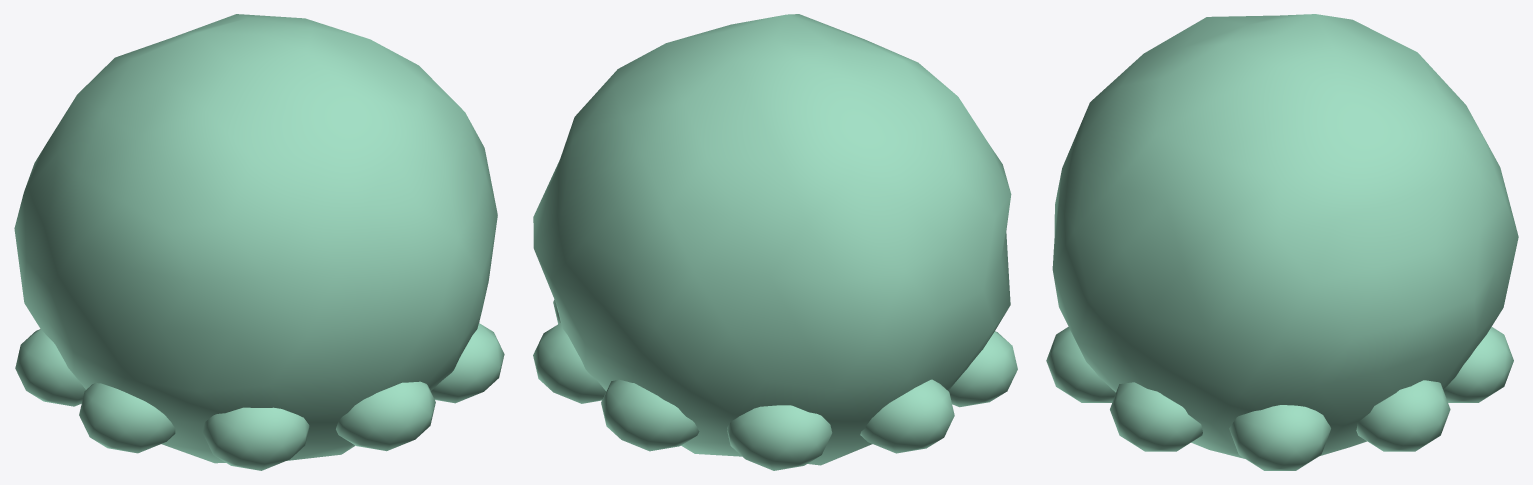
The model's file is Mint_scoop.fbx.
3 renders of one model, left to right at view 1: azimuth 30°, elevation 25°; view 2: azimuth 150°, elevation 25°; view 3: azimuth 270°, elevation 25°, orthographic.
Parts seen in each view (by area): view 1: Toon_Mint_scoop Mint scoop.001, Toon_Mint_scoop Ruffled scoop edge.015, Toon_Mint_scoop Ruffled scoop edge.016, Toon_Mint_scoop Ruffled scoop edge.014, Toon_Mint_scoop Ruffled scoop edge.013, Toon_Mint_scoop Ruffled scoop edge.017; view 2: Toon_Mint_scoop Mint scoop.001, Toon_Mint_scoop Ruffled scoop edge.012, Toon_Mint_scoop Ruffled scoop edge.011, Toon_Mint_scoop Ruffled scoop edge.013, Toon_Mint_scoop Ruffled scoop edge.010, Toon_Mint_scoop Ruffled scoop edge.014; view 3: Toon_Mint_scoop Mint scoop.001, Toon_Mint_scoop Ruffled scoop edge.009, Toon_Mint_scoop Ruffled scoop edge.010, Toon_Mint_scoop Ruffled scoop edge.017, Toon_Mint_scoop Ruffled scoop edge.011, Toon_Mint_scoop Ruffled scoop edge.016.
Part boxes in pixels (x1=…): Toon_Mint_scoop Mint scoop.001: x1=14, y1=14, x2=497, y2=463; Toon_Mint_scoop Ruffled scoop edge.015: x1=202, y1=407, x2=309, y2=470; Toon_Mint_scoop Ruffled scoop edge.016: x1=336, y1=381, x2=435, y2=451; Toon_Mint_scoop Ruffled scoop edge.014: x1=79, y1=382, x2=175, y2=453; Toon_Mint_scoop Ruffled scoop edge.013: x1=15, y1=329, x2=85, y2=406; Toon_Mint_scoop Ruffled scoop edge.017: x1=431, y1=323, x2=504, y2=403; Toon_Mint_scoop Mint scoop.001: x1=533, y1=14, x2=1011, y2=465; Toon_Mint_scoop Ruffled scoop edge.012: x1=727, y1=405, x2=832, y2=470; Toon_Mint_scoop Ruffled scoop edge.011: x1=601, y1=379, x2=699, y2=451; Toon_Mint_scoop Ruffled scoop edge.013: x1=860, y1=379, x2=954, y2=453; Toon_Mint_scoop Ruffled scoop edge.010: x1=533, y1=323, x2=606, y2=403; Toon_Mint_scoop Ruffled scoop edge.014: x1=948, y1=331, x2=1017, y2=407; Toon_Mint_scoop Mint scoop.001: x1=1052, y1=14, x2=1518, y2=458; Toon_Mint_scoop Ruffled scoop edge.009: x1=1229, y1=405, x2=1330, y2=470; Toon_Mint_scoop Ruffled scoop edge.010: x1=1356, y1=380, x2=1450, y2=451; Toon_Mint_scoop Ruffled scoop edge.017: x1=1110, y1=382, x2=1202, y2=451; Toon_Mint_scoop Ruffled scoop edge.011: x1=1443, y1=327, x2=1513, y2=402; Toon_Mint_scoop Ruffled scoop edge.016: x1=1046, y1=327, x2=1115, y2=402.
Size of the model in its own units: 10.56 by 9.6 by 10.18.
